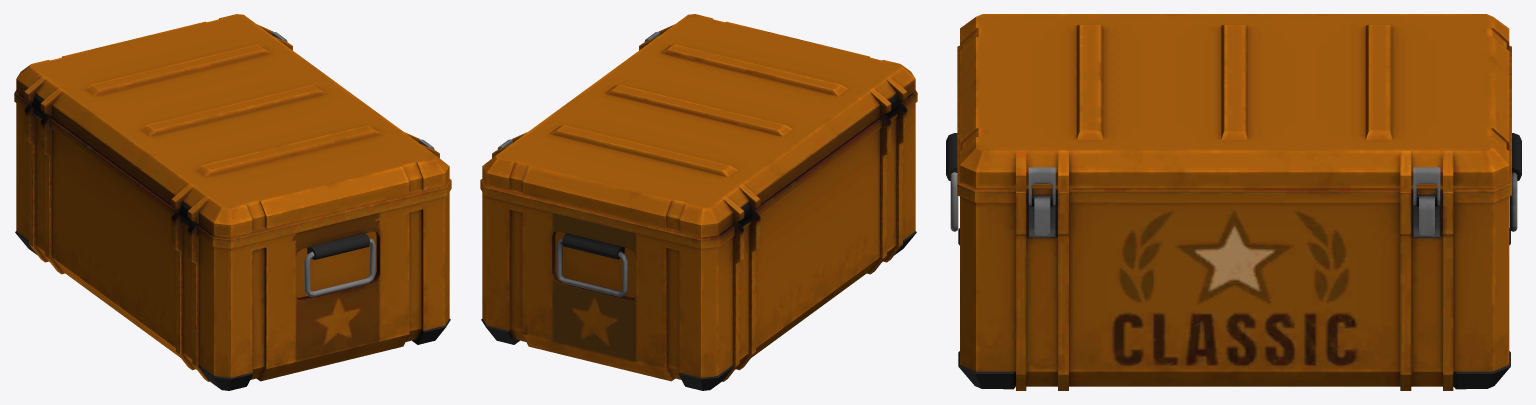
The model's file is Weapon_Case_Classic.glb.
3 renders of one model, left to right at view 1: azimuth 30°, elevation 25°; view 2: azimuth 150°, elevation 25°; view 3: azimuth 270°, elevation 25°, orthographic. The views are drawn at different scales.
Parts seen in each view (by area): view 1: Case_Body, Case_Cap; view 2: Case_Body, Case_Cap; view 3: Case_Body, Case_Cap, Case_Clips_L, Case_Clips_R.
Part boxes in pixels (<box>): Case_Body: <box>14,90,451,390</box>; Case_Cap: <box>16,14,449,237</box>; Case_Body: <box>480,90,917,390</box>; Case_Cap: <box>482,14,915,237</box>; Case_Body: <box>946,45,1521,390</box>; Case_Cap: <box>960,14,1509,191</box>; Case_Clips_L: <box>1028,167,1055,207</box>; Case_Clips_R: <box>1413,167,1440,207</box>.
Size of the model in its own units: 0.5788 by 0.4112 by 0.879.
Materials: 1 (1 with a texture image).
